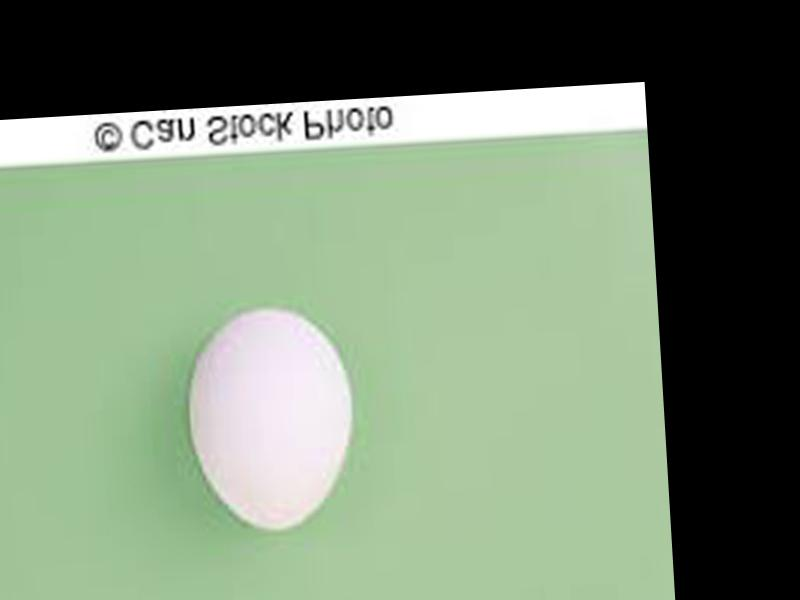Eggs: (184, 305, 356, 533)
